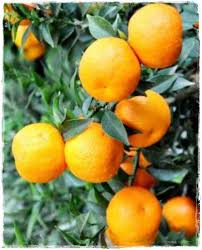orange: (61, 118, 125, 186), (79, 40, 142, 105), (125, 7, 185, 69), (113, 89, 173, 151), (102, 183, 163, 240), (14, 121, 66, 183)
